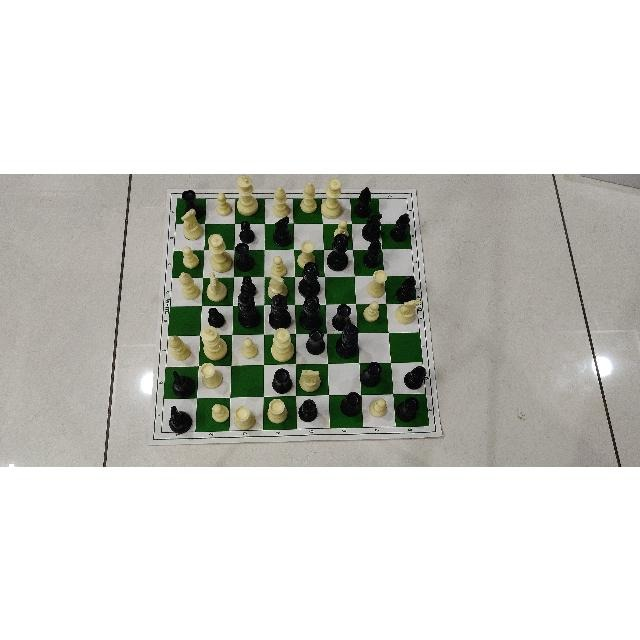black-bishop: (388, 210, 411, 246), (392, 274, 420, 302), (353, 186, 374, 216), (364, 239, 384, 269), (298, 397, 321, 423), (404, 362, 426, 389)
black-king: (236, 290, 262, 328), (335, 322, 361, 358), (269, 293, 293, 329)
black-knight: (168, 368, 196, 396), (270, 214, 295, 244), (167, 404, 192, 431), (362, 210, 383, 242)
black-pawn: (233, 220, 258, 242), (204, 307, 229, 327), (235, 275, 259, 294)
black-queen: (325, 232, 356, 275), (297, 261, 325, 297), (299, 293, 326, 329)
black-rook: (179, 189, 207, 219), (332, 303, 360, 331), (305, 326, 329, 354), (395, 395, 420, 421), (359, 361, 384, 387), (339, 389, 362, 417), (235, 241, 258, 269), (271, 366, 292, 393)
white-bishop: (176, 270, 202, 300), (272, 185, 295, 215), (166, 334, 192, 360), (298, 181, 317, 215)
white-king: (197, 325, 231, 361), (234, 173, 261, 215)
white-knight: (395, 294, 421, 327), (180, 207, 205, 240), (204, 269, 227, 301), (267, 272, 292, 300), (297, 368, 324, 392)
white-pawn: (176, 245, 202, 270), (212, 396, 230, 425), (212, 191, 232, 217), (269, 254, 292, 276), (363, 300, 383, 325), (240, 335, 260, 358), (332, 218, 352, 240), (369, 397, 387, 417)
white-queen: (206, 231, 234, 273), (267, 326, 297, 361), (320, 177, 346, 215)
white-rook: (296, 241, 321, 271), (198, 361, 224, 388), (266, 398, 291, 426), (367, 270, 390, 298), (232, 403, 255, 428)
